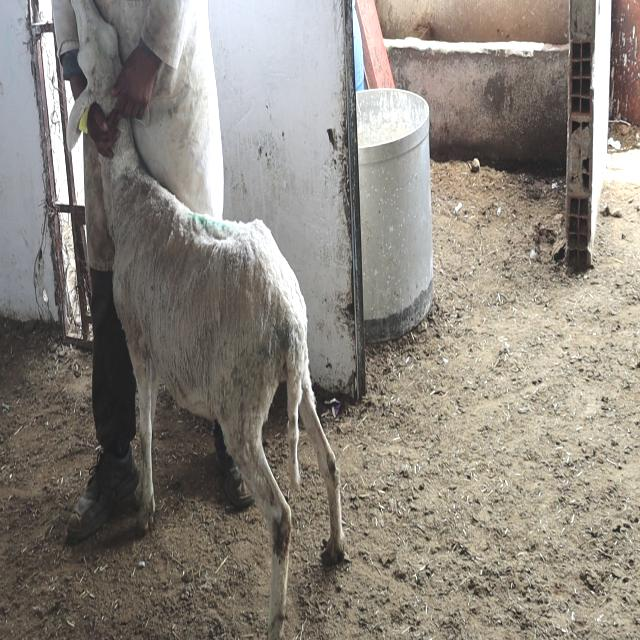Score_1: (99, 119, 346, 639)
